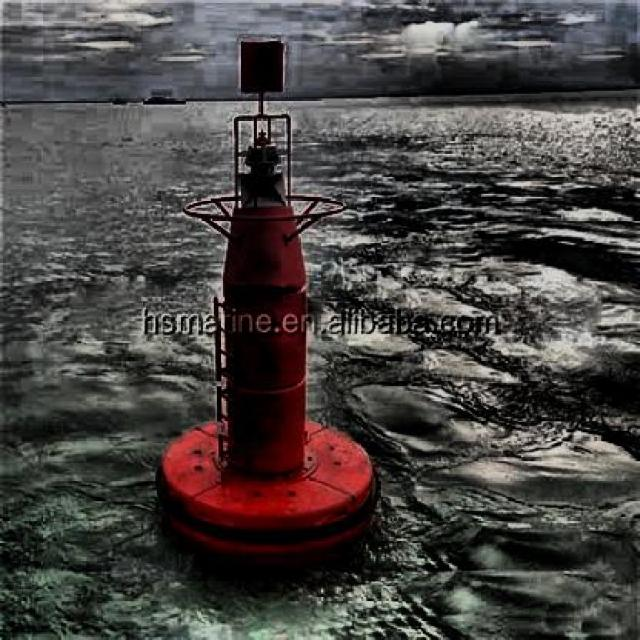Red Buoy: (157, 207, 378, 556)
